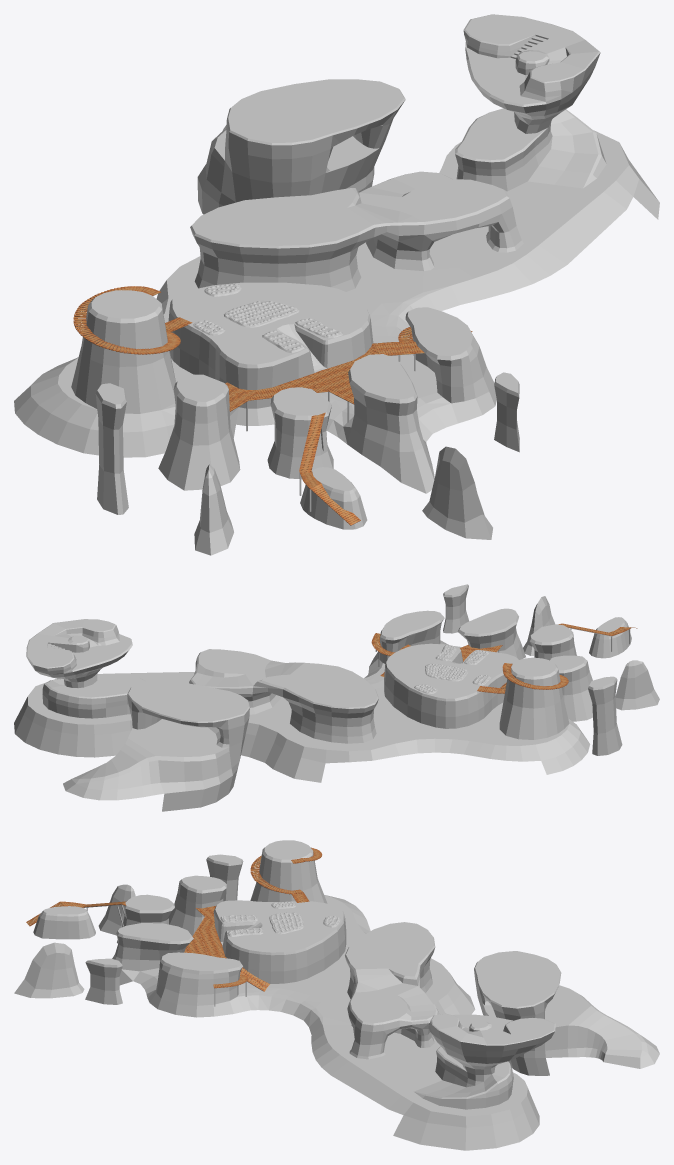
File: GRP_fields_0_8_10.fbx
3 renders of one model, top to bottom at view 1: azimuth 30°, elevation 25°; view 2: azimuth 150°, elevation 25°; view 3: azimuth 270°, elevation 25°, orthographic. The views are drawn at different scales.
Parts seen in each view (by area): view 1: GEO_market_and_fields_0_8_10, GEO_market_small_0_8_10, GEO_paw_middle_right_1, GEO_paw_middle_1, GEO_paw_middle_left_2, GEO_paw_right_2, GEO_paw_middle_2, GEO_paw_middle_left_4, GEO_paw_left_2, GEO_dirt; view 2: GEO_market_and_fields_0_8_10, GEO_market_small_0_8_10, GEO_paw_right_2, GEO_paw_middle_right_1, GEO_paw_middle_left_4, GEO_paw_middle_1, GEO_paw_middle_2, GEO_paw_left_2, GEO_paw_middle_left_2, GEO_dirt; view 3: GEO_market_and_fields_0_8_10, GEO_market_small_0_8_10, GEO_paw_middle_left_2, GEO_paw_middle_right_1, GEO_paw_middle_2, GEO_paw_left_2, GEO_paw_middle_1, GEO_paw_right_2, GEO_paw_middle_left_4, GEO_dirt.
Part boxes in pixels (x1,y1,x2,y2): GEO_market_and_fields_0_8_10: (14, 14, 659, 493); GEO_market_small_0_8_10: (197, 79, 405, 214); GEO_paw_middle_right_1: (158, 374, 240, 490); GEO_paw_middle_1: (267, 387, 333, 479); GEO_paw_middle_left_2: (422, 446, 492, 539); GEO_paw_right_2: (95, 383, 128, 514); GEO_paw_middle_2: (300, 467, 367, 529); GEO_paw_middle_left_4: (194, 464, 233, 555); GEO_paw_left_2: (494, 372, 519, 452); GEO_dirt: (224, 300, 299, 327); GEO_market_and_fields_0_8_10: (14, 608, 590, 782); GEO_market_small_0_8_10: (63, 681, 249, 811); GEO_paw_right_2: (588, 676, 622, 755); GEO_paw_middle_right_1: (549, 655, 592, 721); GEO_paw_middle_left_4: (615, 660, 659, 710); GEO_paw_middle_1: (529, 624, 576, 659); GEO_paw_middle_2: (589, 617, 631, 658); GEO_paw_left_2: (443, 584, 469, 633); GEO_paw_middle_left_2: (523, 596, 554, 655); GEO_dirt: (425, 663, 468, 681); GEO_market_and_fields_0_8_10: (112, 840, 555, 1150); GEO_market_small_0_8_10: (474, 951, 659, 1075); GEO_paw_middle_left_2: (14, 942, 84, 998); GEO_paw_middle_right_1: (169, 875, 226, 936); GEO_paw_middle_2: (33, 906, 95, 939); GEO_paw_left_2: (85, 958, 122, 1004); GEO_paw_middle_1: (117, 894, 174, 943); GEO_paw_right_2: (206, 854, 243, 901); GEO_paw_middle_left_4: (98, 884, 135, 935); GEO_dirt: (269, 912, 304, 934).
Size of the model in its own units: 8.88 by 1.9 by 10.04.
